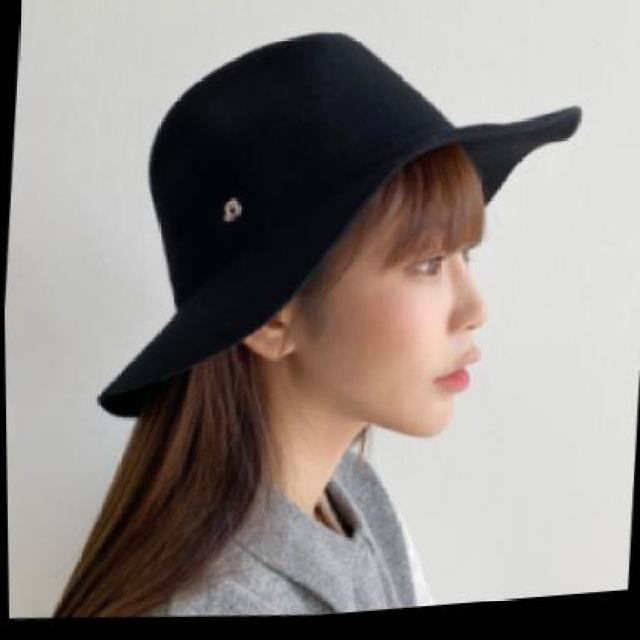hat: (95, 36, 580, 421)
